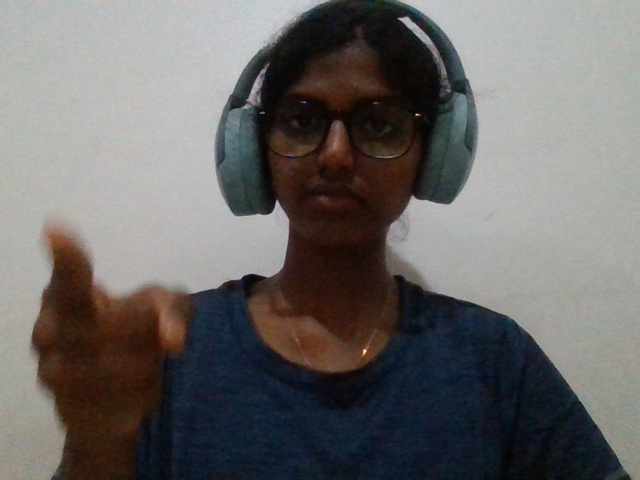You: (11, 196, 249, 476)
